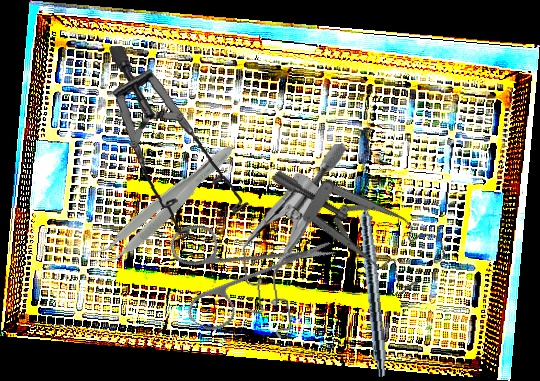Handpiece: (354, 179, 393, 378)
Iris Scissors: (140, 170, 339, 367)
Speculum: (269, 117, 456, 319), (95, 45, 261, 244), (232, 143, 359, 340)
Tissue Forceps: (86, 134, 240, 276)
